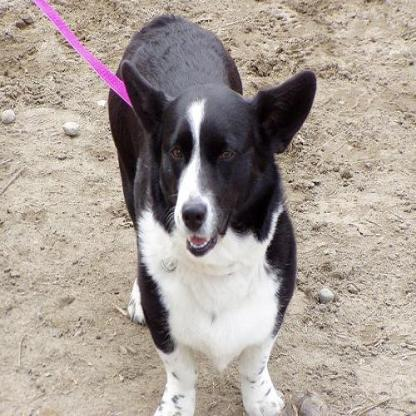Cardigan: (106, 14, 327, 414)
